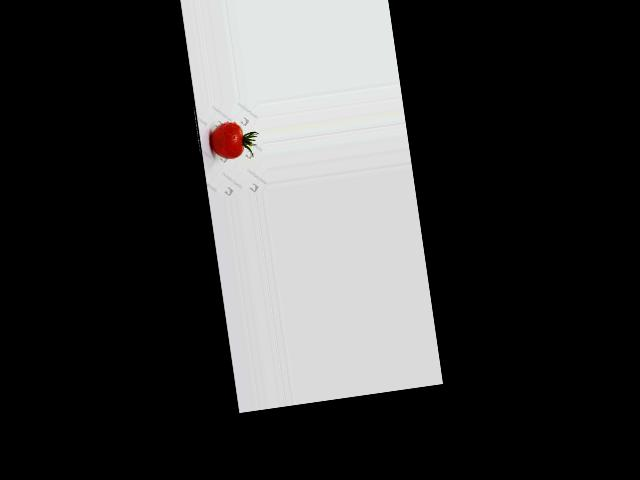tomato: (208, 121, 245, 161)
